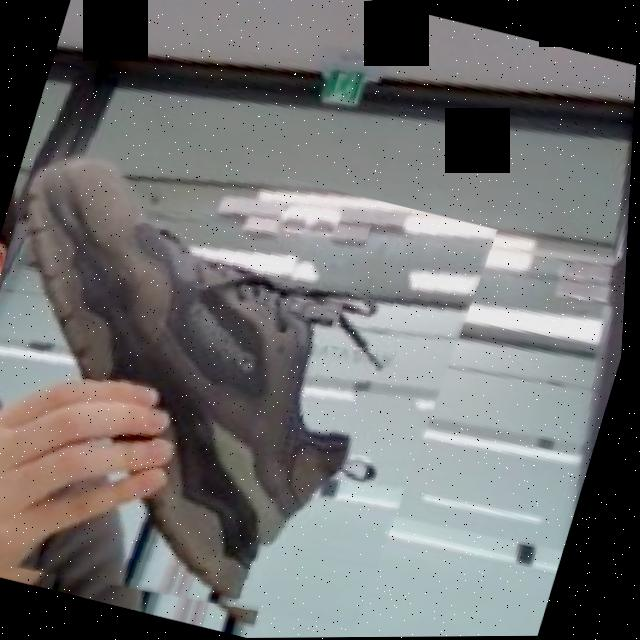shoe: (0, 117, 505, 640)
